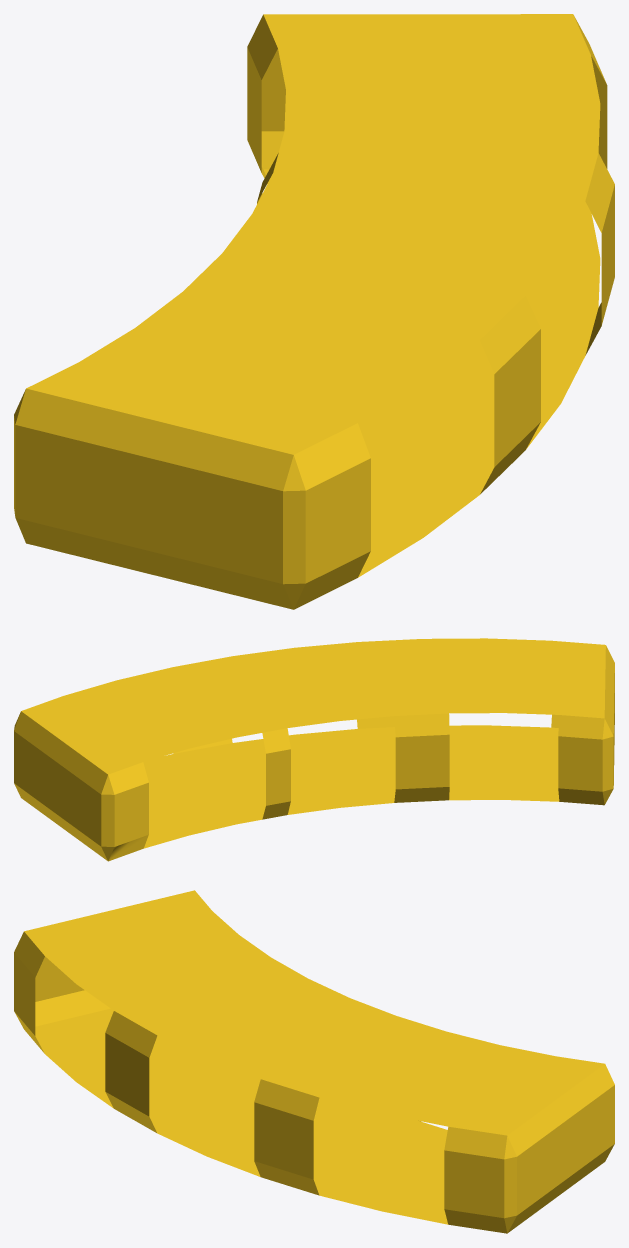
Rendered from CabinetChair.fbx.
The picture shows the model from 3 angles, top to bottom: view 1: azimuth 30°, elevation 25°; view 2: azimuth 150°, elevation 25°; view 3: azimuth 270°, elevation 25°; orthographic projection. The views are drawn at different scales.
Visible parts, largest first — view 1: Chairs; view 2: Chairs; view 3: Chairs.
Boxes of the visible parts, bbox=[...] form: Chairs: bbox=[14, 14, 614, 609]; Chairs: bbox=[14, 638, 614, 861]; Chairs: bbox=[14, 890, 614, 1233].
Bounding box in the file's own units: 374 × 67.5 × 375.
